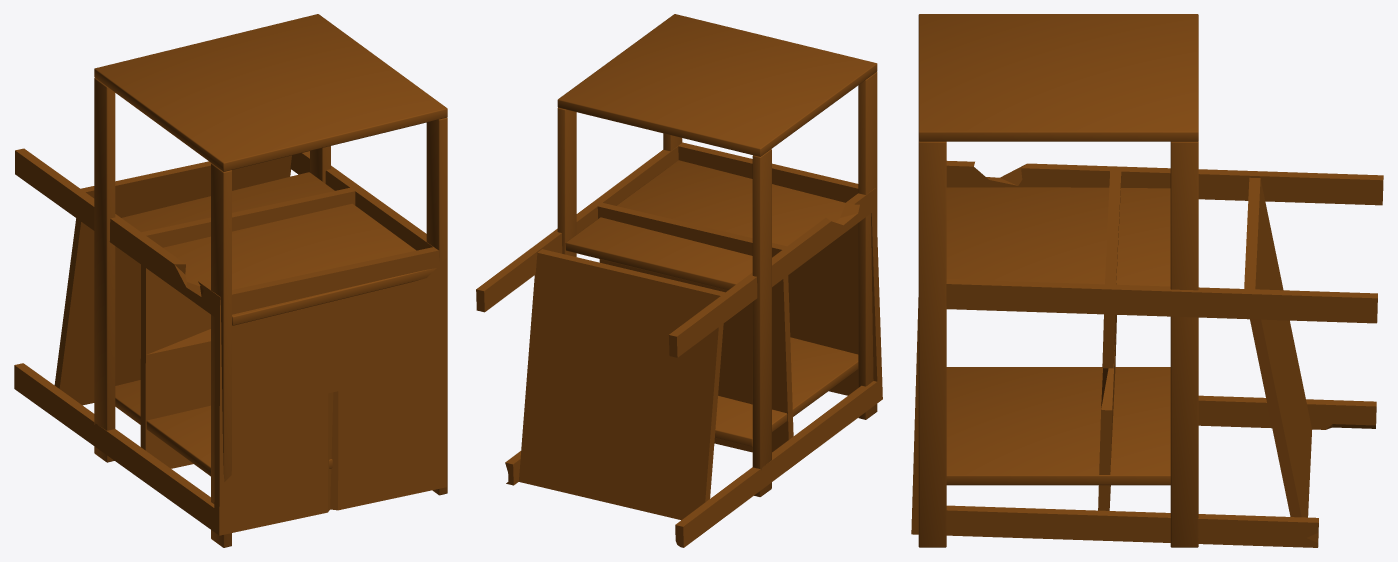
File: Tabel.fbx
The picture shows the model from 3 angles, left to right: view 1: azimuth 30°, elevation 25°; view 2: azimuth 150°, elevation 25°; view 3: azimuth 270°, elevation 25°; orthographic projection. The views are drawn at different scales.
Visible parts, largest first — view 1: Broken tabel, Tabel; view 2: Broken tabel, Tabel; view 3: Tabel, Broken tabel.
Part boxes in pixels (<box>): Broken tabel: <box>14,148,447,535</box>; Tabel: <box>94,14,447,547</box>; Broken tabel: <box>476,142,882,547</box>; Tabel: <box>557,14,877,496</box>; Tabel: <box>918,14,1198,547</box>; Broken tabel: <box>911,161,1383,547</box>.
Bounding box in the file's own units: 52.58 × 82 × 84.33.
